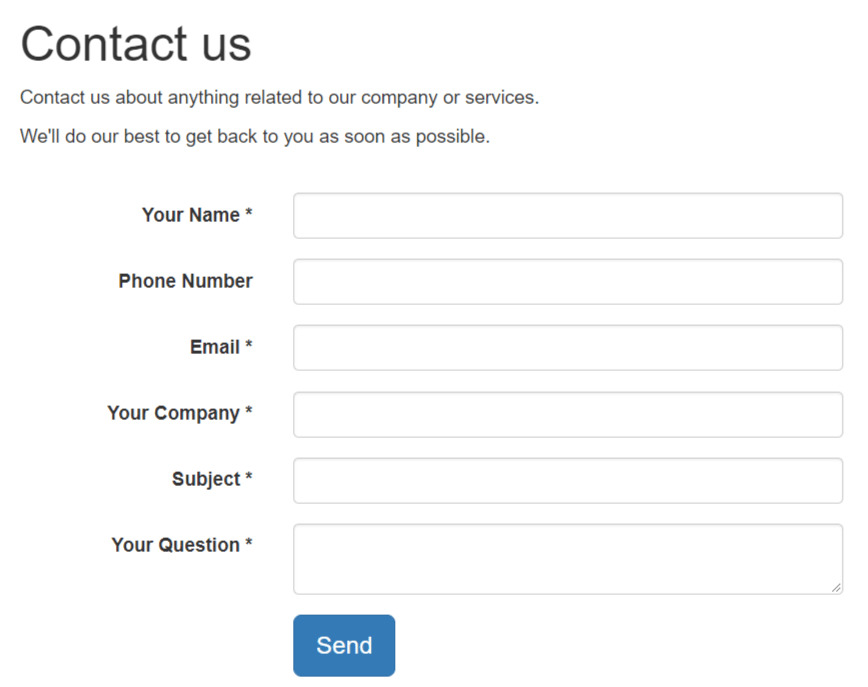button: (288, 612, 397, 681)
field: (288, 522, 847, 596), (290, 389, 848, 441), (290, 189, 845, 241), (289, 455, 848, 506), (290, 322, 846, 372), (289, 258, 844, 308)
